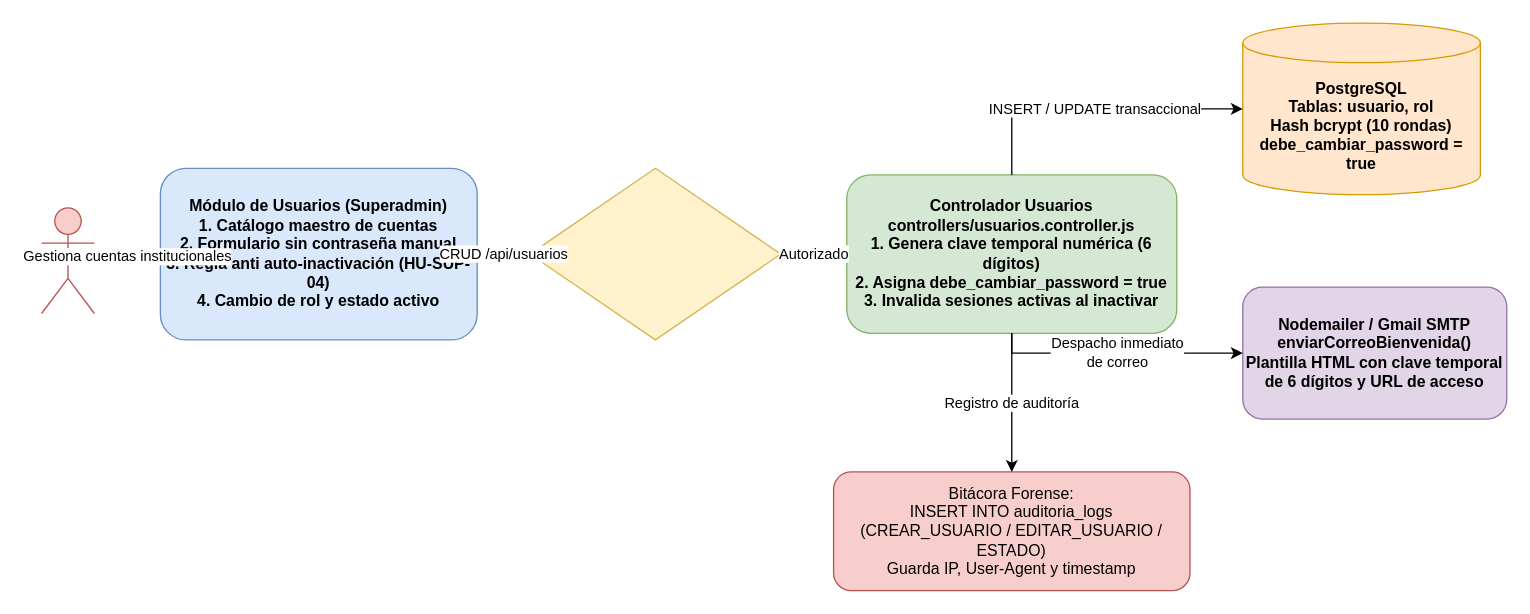
Some shapes in this 1530 by 614 pixel diagram are drawn without their labels. Each missing label, with the box of its shape:
RBAC Guard: verificarRol('superadmin') Previene degradación propia: (529, 167, 781, 340)
Superadmin: (40, 207, 94, 314)
